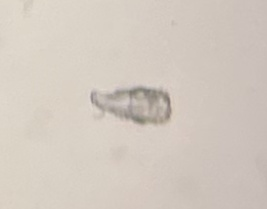microplastic: (89, 86, 172, 126)
